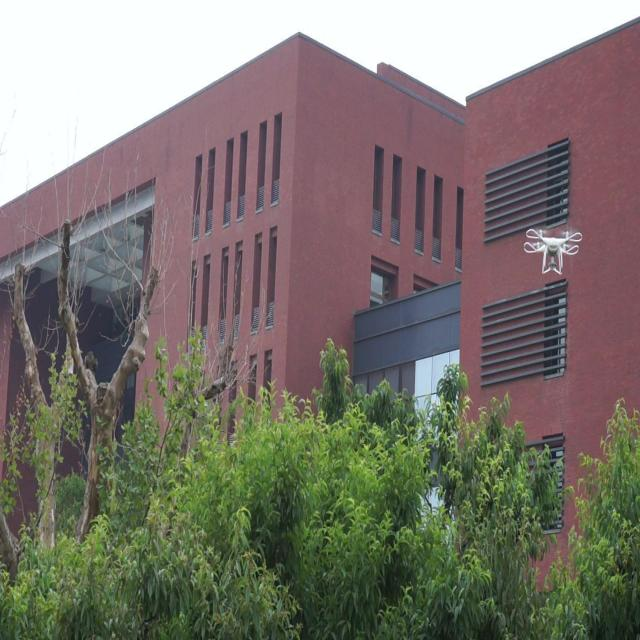UAV: (523, 228, 583, 275)
